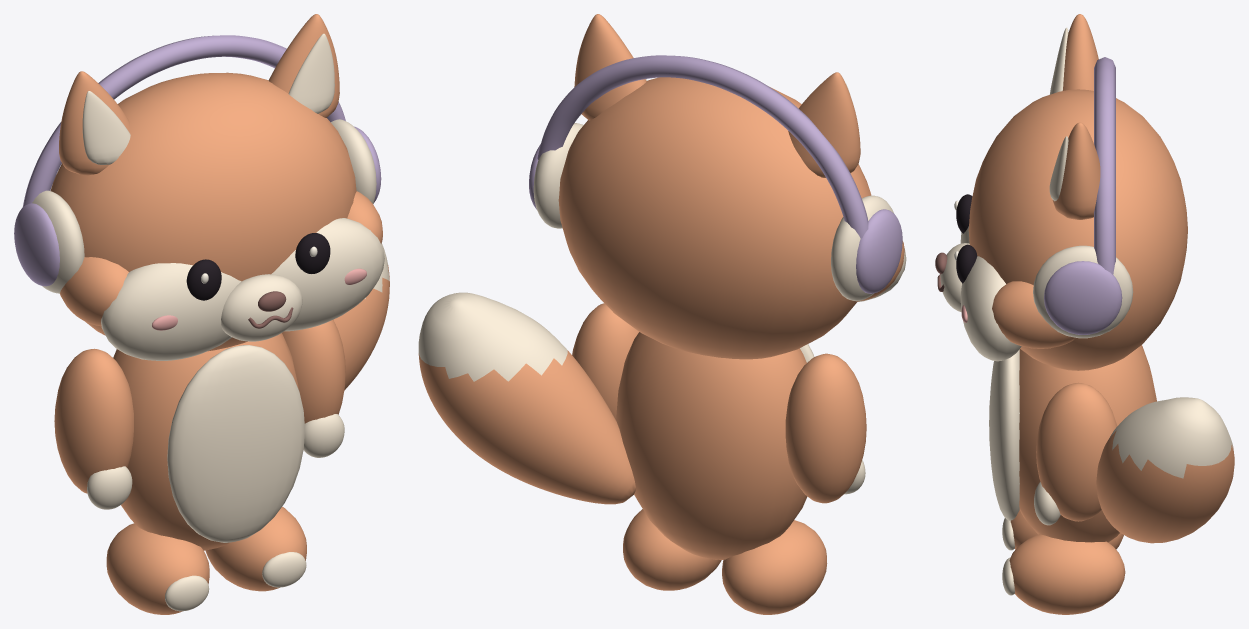
Rendered from peach-fox.glb.
3 renders of one model, left to right at view 1: azimuth 30°, elevation 25°; view 2: azimuth 150°, elevation 25°; view 3: azimuth 270°, elevation 25°, orthographic. The views are drawn at different scales.
Visible parts, largest first — view 1: Broad chibi head, Ivory bib, Pear-shaped body, Cream cheek.001, Soft sleeve.001, Cream cheek, Rounded foot.001, Padded headphone band, Soft sleeve, Rounded foot, Muzzle, Curved plush tail (+15 smaller); view 2: Broad chibi head, Pear-shaped body, Curved plush tail, Padded headphone band, Soft sleeve.001, Rounded foot.001, Rounded foot, Soft sleeve, Tapered fox ear, Tapered fox ear.001, Headphone cup.001, Headphone cushion.001 (+1 smaller); view 3: Broad chibi head, Curved plush tail, Pear-shaped body, Soft sleeve, Rounded foot, Headphone cup, Ivory bib, Padded headphone band, Cream cheek, Cheek tuft, Tapered fox ear.001, Headphone cushion (+8 smaller).
Part boxes in pixels (x1,y1,x2,y2): Broad chibi head: (50,72,356,351); Ivory bib: (167,345,304,542); Pear-shaped body: (113,333,298,550); Cream cheek.001: (101,263,241,360); Soft sleeve.001: (54,348,133,493); Cream cheek: (271,218,384,331); Rounded foot.001: (106,523,209,614); Padded headphone band: (23,35,345,206); Soft sleeve: (282,319,345,423); Rounded foot: (205,506,306,591); Muzzle: (221,274,302,341); Curved plush tail: (333,243,389,390); Broad chibi head: (558,77,871,359); Pear-shaped body: (616,332,807,559); Curved plush tail: (418,292,636,504); Padded headphone band: (537,55,868,238); Soft sleeve.001: (785,353,866,503); Rounded foot.001: (722,520,827,614); Rounded foot: (623,509,721,590); Soft sleeve: (572,303,638,419); Tapered fox ear: (788,72,860,177); Tapered fox ear.001: (574,14,646,120); Headphone cup.001: (856,209,902,293); Headphone cushion.001: (831,195,893,301); Broad chibi head: (968,89,1187,370); Curved plush tail: (1096,397,1234,543); Pear-shaped body: (1019,345,1156,542); Soft sleeve: (1036,382,1117,521); Rounded foot: (1009,534,1125,614); Headphone cup: (1044,261,1122,334); Ivory bib: (989,349,1019,520); Padded headphone band: (1094,57,1115,274); Cream cheek: (960,256,1021,361); Cheek tuft: (992,281,1075,348); Tapered fox ear.001: (1052,122,1100,219); Headphone cushion: (1033,245,1133,338).
Size of the model in its own units: 1.42 by 1.83 by 0.956.
